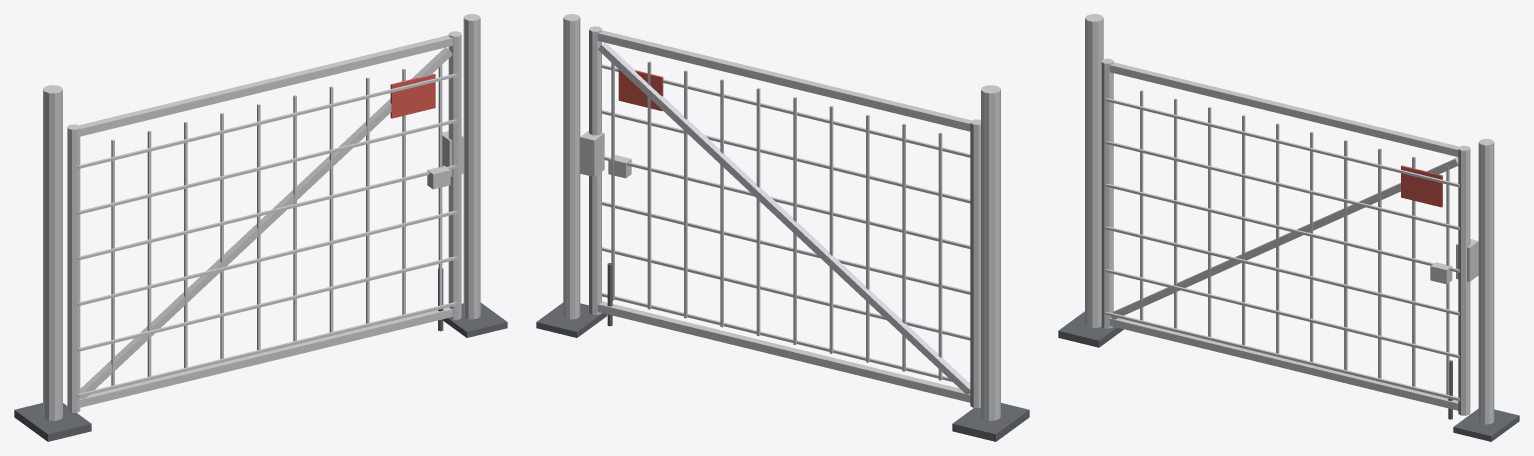
Rendered from tool-hire-depot-and-plant-yard-tool-hire-depot-and-pla-6f3f5205__35293.glb.
3 renders of one model, left to right at view 1: azimuth 30°, elevation 25°; view 2: azimuth 150°, elevation 25°; view 3: azimuth 330°, elevation 25°, orthographic. The views are drawn at different scales.
Parts seen in each view (by area): view 1: gate-leaf/steel, tool-hire-depot-and-plant-yard-depot-fence-gate; view 2: gate-leaf/steel, tool-hire-depot-and-plant-yard-depot-fence-gate; view 3: gate-leaf/steel, tool-hire-depot-and-plant-yard-depot-fence-gate.
Part boxes in pixels (x1=…): gate-leaf/steel: x1=67, y1=31, x2=461, y2=412; tool-hire-depot-and-plant-yard-depot-fence-gate: x1=14, y1=14, x2=507, y2=441; gate-leaf/steel: x1=589, y1=26, x2=980, y2=408; tool-hire-depot-and-plant-yard-depot-fence-gate: x1=536, y1=14, x2=1029, y2=441; gate-leaf/steel: x1=1101, y1=58, x2=1470, y2=415; tool-hire-depot-and-plant-yard-depot-fence-gate: x1=1058, y1=14, x2=1519, y2=441.
Bounding box in the file's own units: 3.17 × 2.2 × 0.4001.
